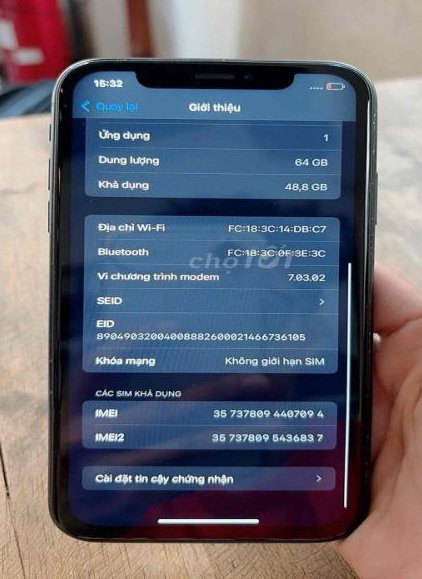scratch: (354, 232, 388, 394), (351, 102, 387, 239)
